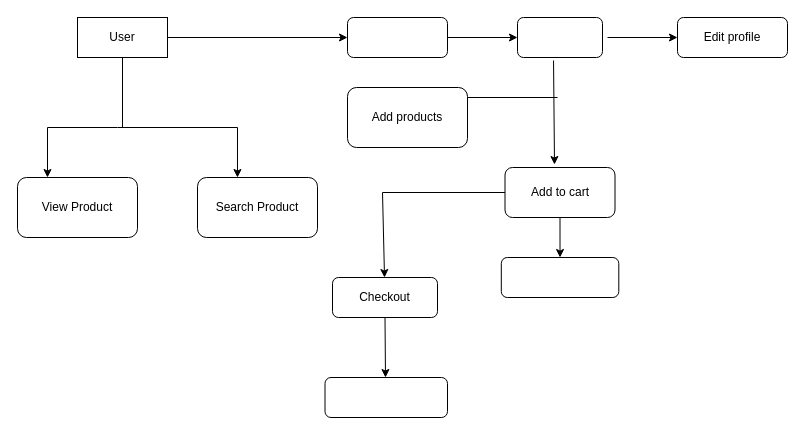
This 805x435 diagram has some shape labels left out. The shapes that lost their labels are listed below. From the top down, each one's centre as x and y in pixels, then its label:
At (397,37): "Signup".
At (559,37): "Login".
At (559,277): "List cart".
At (386,397): "Payment".
